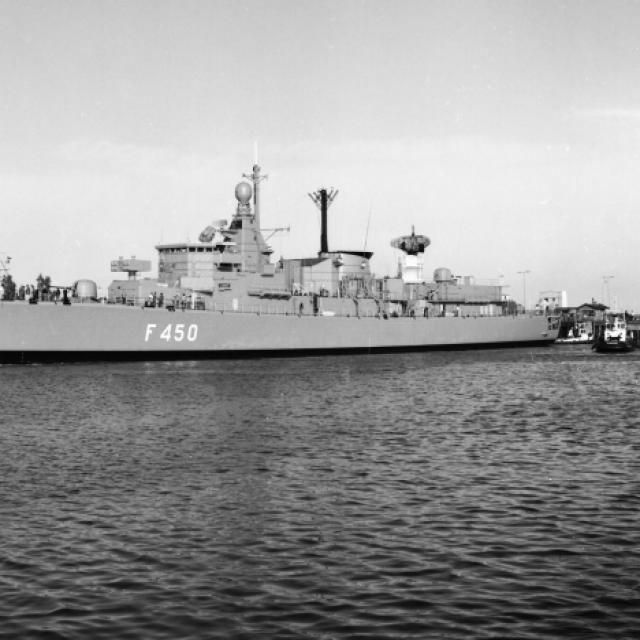Fragata: (1, 155, 560, 367)
